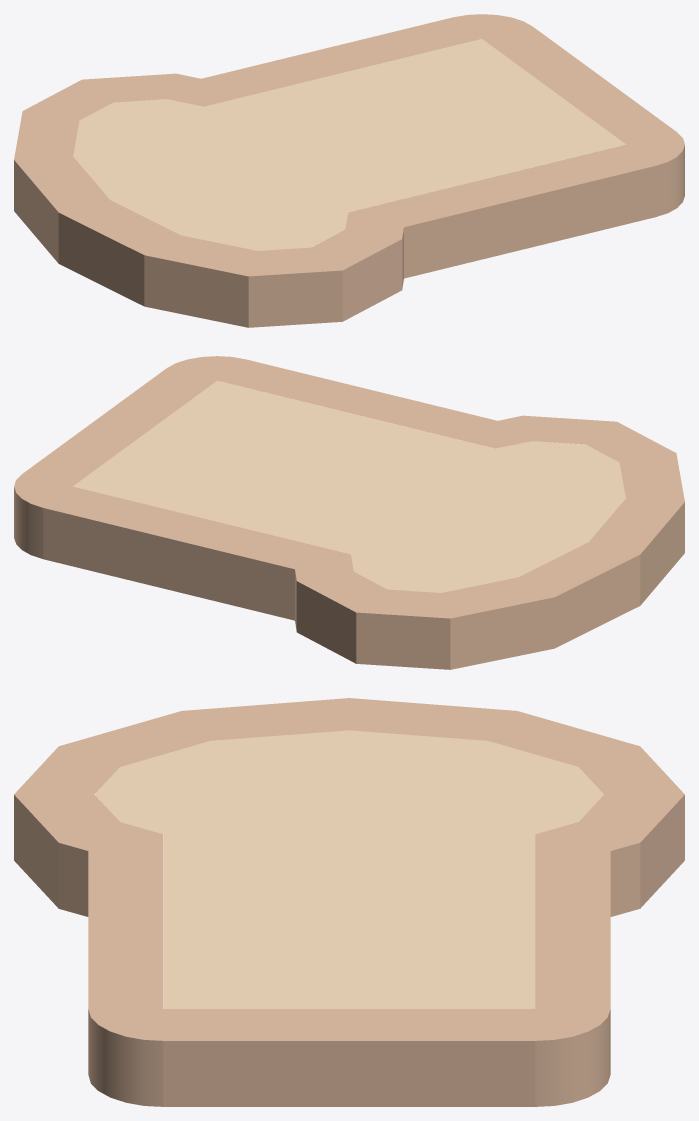
The model's file is bread.glb.
3 renders of one model, top to bottom at view 1: azimuth 30°, elevation 25°; view 2: azimuth 150°, elevation 25°; view 3: azimuth 270°, elevation 25°, orthographic. The views are drawn at different scales.
Visible parts, largest first — view 1: bread; view 2: bread; view 3: bread.
Boxes of the visible parts, bbox=[...] form: bread: bbox=[14, 14, 684, 327]; bread: bbox=[14, 356, 684, 669]; bread: bbox=[14, 698, 684, 1106].
Size of the model in its own units: 0.4423 by 0.0397 by 0.3658.
